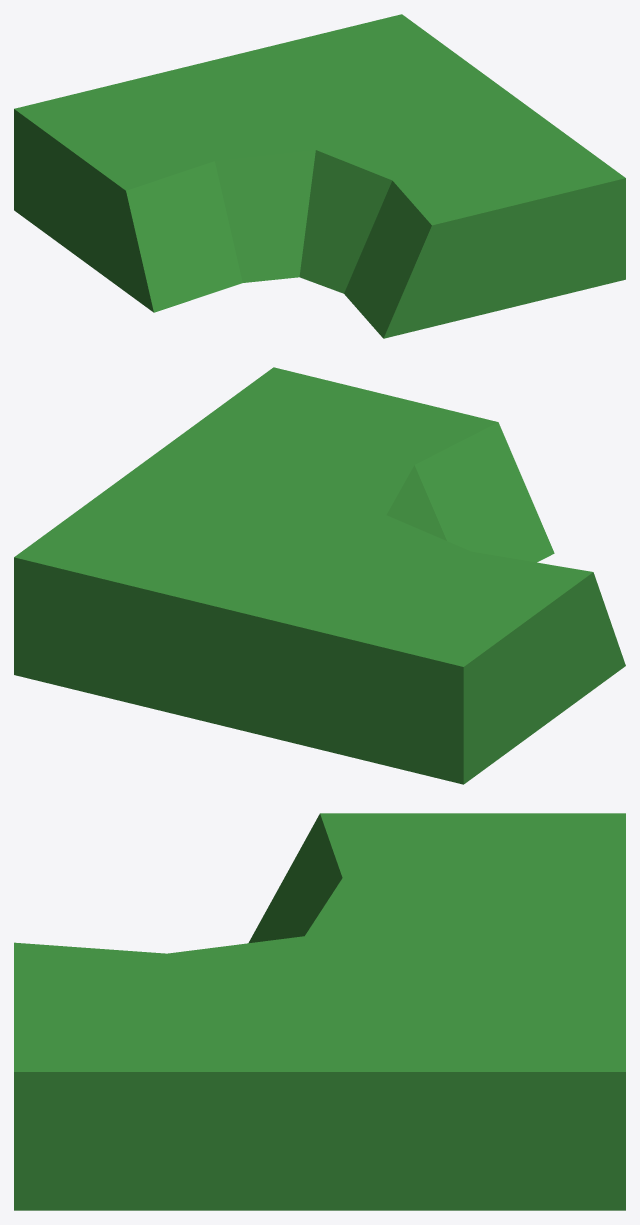
The model's file is pond_corner_concave_001.fbx.
The picture shows the model from 3 angles, top to bottom: view 1: azimuth 30°, elevation 25°; view 2: azimuth 150°, elevation 25°; view 3: azimuth 270°, elevation 25°; orthographic projection. The views are drawn at different scales.
Parts seen in each view (by area): view 1: pond.corner.001; view 2: pond.corner.001; view 3: pond.corner.001.
Boxes of the visible parts, x1=… form: pond.corner.001: x1=14, y1=14, x2=625, y2=338; pond.corner.001: x1=14, y1=367, x2=625, y2=784; pond.corner.001: x1=14, y1=813, x2=625, y2=1210.
Bounding box in the file's own units: 400 × 100 × 400.
